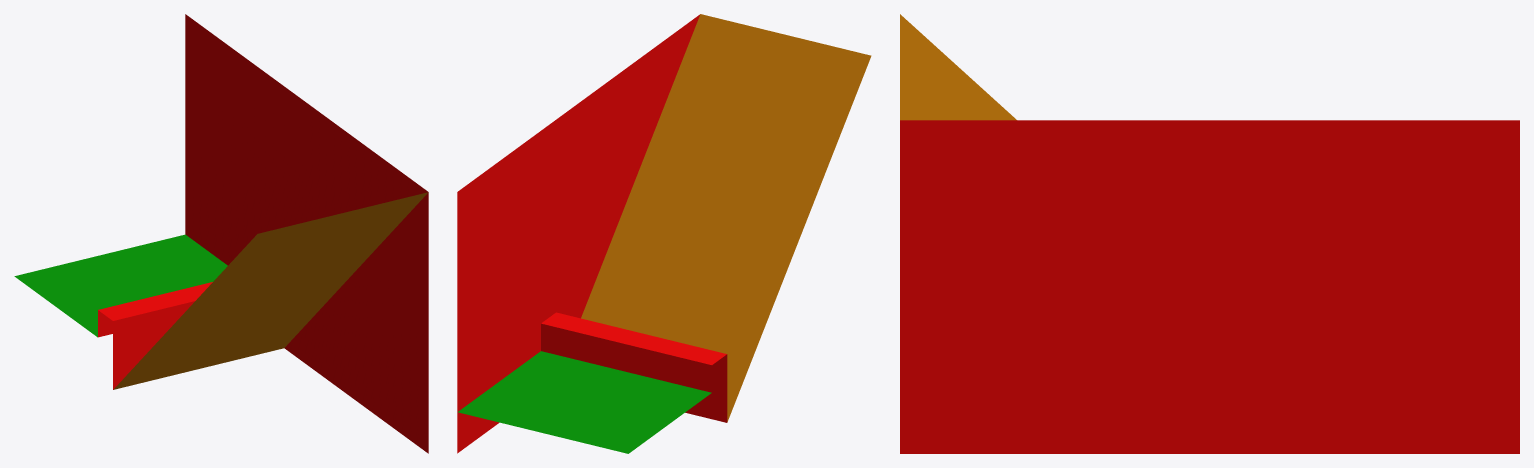
3 views of the same model, side by side, from view 1: azimuth 30°, elevation 25°; view 2: azimuth 150°, elevation 25°; view 3: azimuth 270°, elevation 25° (orthographic). The views are drawn at different scales.
Parts seen in each view (by area): view 1: None_A_A_A_A_W_S_E_E_None; view 2: None_A_A_A_A_W_S_E_E_None; view 3: None_A_A_A_A_W_S_E_E_None.
Boxes of the visible parts, <box> form: None_A_A_A_A_W_S_E_E_None: <box>14,14,428,453</box>; None_A_A_A_A_W_S_E_E_None: <box>457,14,871,453</box>; None_A_A_A_A_W_S_E_E_None: <box>900,14,1519,453</box>.
Bounding box in the file's own units: 40.62 × 59.38 × 100.
